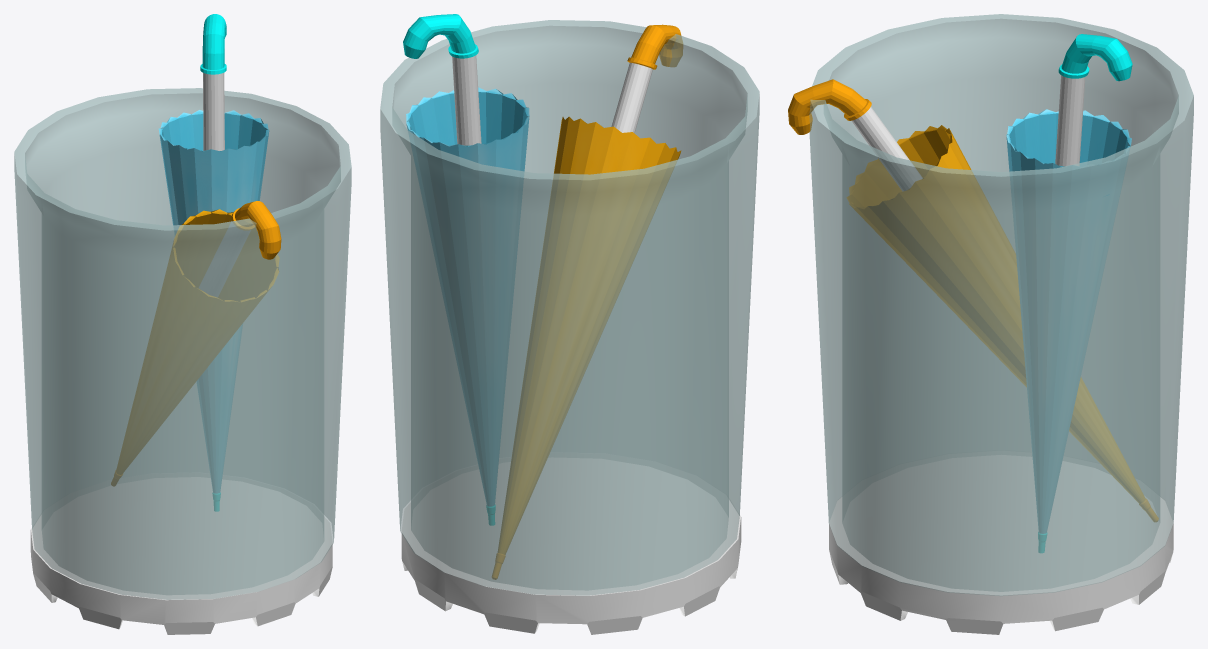
Rendered from tempat payung.glb.
The picture shows the model from 3 angles, left to right: view 1: azimuth 30°, elevation 25°; view 2: azimuth 150°, elevation 25°; view 3: azimuth 270°, elevation 25°; orthographic projection. The views are drawn at different scales.
Parts seen in each view (by area): view 1: polySurface2, polySurface1, umbrala, umbrala1; view 2: polySurface2, polySurface1, umbrala, umbrala1; view 3: polySurface2, polySurface1, umbrala1, umbrala.
Part boxes in pixels (left/top/right/bottom): polySurface2: left=14, top=88, right=351, bottom=599; polySurface1: left=30, top=477, right=332, bottom=634; umbrala: left=111, top=201, right=281, bottom=486; umbrala1: left=158, top=14, right=269, bottom=511; polySurface2: left=380, top=20, right=759, bottom=595; polySurface1: left=401, top=457, right=741, bottom=634; umbrala: left=492, top=24, right=682, bottom=579; umbrala1: left=403, top=14, right=529, bottom=525; polySurface2: left=809, top=14, right=1193, bottom=596; polySurface1: left=829, top=454, right=1173, bottom=634; umbrala1: left=1006, top=34, right=1132, bottom=552; umbrala: left=788, top=79, right=1158, bottom=521.
Size of the model in its own units: 0.0224 by 0.0365 by 0.0235.
Materials: 6 (2 with a texture image).
